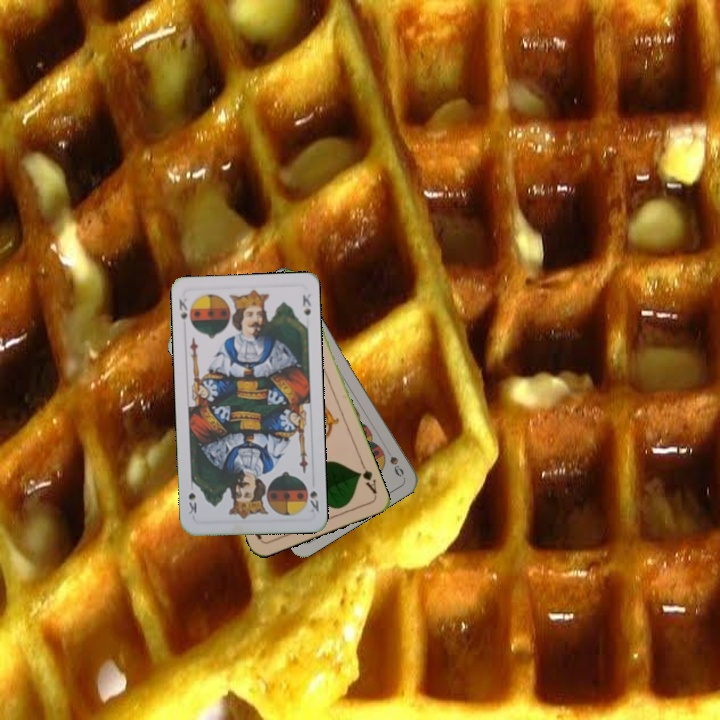GA: (354, 459, 379, 496)
S9: (381, 442, 406, 479)
SK: (174, 292, 190, 324), (305, 487, 321, 515)
